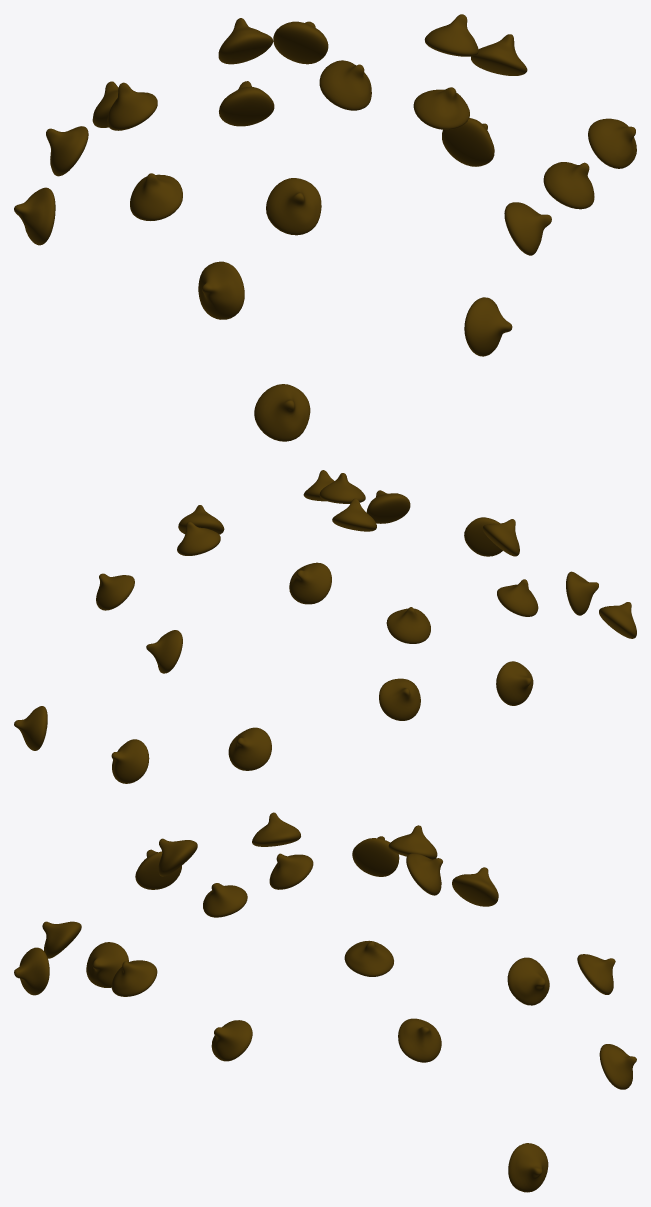
Rendered from chocolate-chips.gltf.
3 views of the same model, one above another, from view 1: azimuth 30°, elevation 25°; view 2: azimuth 150°, elevation 25°; view 3: azimuth 270°, elevation 25° (orthographic). The views are drawn at different scales.
Visible parts, largest first — view 1: Cube.006, Cube.010, Cube.011, Cube.003, Cube.017, Cube.008, Cube.018, Cube.009, Cube.004, Cube, Cube.015, Cube.019 (+8 smaller); view 2: Cube.016, Cube.001, Cube.013, Cube.019, Cube.012, Cube.002, Cube.014, Cube.007, Cube.017, Cube.004, Cube.005, Cube (+8 smaller); view 3: Cube, Cube.004, Cube.014, Cube.012, Cube.005, Cube.007, Cube.008, Cube.009, Cube.001, Cube.018, Cube.019, Cube.003 (+8 smaller).
Boxes of the visible parts, left/top/right/bottom form: Cube.006: left=266, top=178, right=321, bottom=235; Cube.010: left=254, top=384, right=310, bottom=441; Cube.011: left=198, top=261, right=244, bottom=319; Cube.003: left=319, top=60, right=371, bottom=110; Cube.017: left=130, top=173, right=182, bottom=220; Cube.008: left=588, top=118, right=636, bottom=168; Cube.018: left=464, top=297, right=512, bottom=356; Cube.009: left=543, top=162, right=594, bottom=209; Cube.004: left=273, top=21, right=328, bottom=64; Cube: left=442, top=118, right=494, bottom=166; Cube.015: left=413, top=87, right=469, bottom=129; Cube.019: left=219, top=81, right=274, bottom=126; Cube.016: left=228, top=727, right=271, bottom=770; Cube.001: left=379, top=678, right=420, bottom=720; Cube.013: left=289, top=562, right=331, bottom=604; Cube.019: left=111, top=739, right=149, bottom=783; Cube.012: left=496, top=661, right=533, bottom=705; Cube.002: left=386, top=607, right=430, bottom=643; Cube.014: left=96, top=573, right=134, bottom=610; Cube.007: left=366, top=490, right=410, bottom=523; Cube.017: left=497, top=579, right=538, bottom=616; Cube.004: left=146, top=630, right=182, bottom=673; Cube.005: left=177, top=521, right=220, bottom=555; Cube: left=14, top=706, right=47, bottom=750; Cube: left=508, top=1143, right=548, bottom=1192; Cube.004: left=507, top=957, right=549, bottom=1005; Cube.014: left=398, top=1018, right=441, bottom=1062; Cube.012: left=352, top=836, right=399, bottom=876; Cube.005: left=344, top=940, right=393, bottom=976; Cube.007: left=86, top=942, right=128, bottom=987; Cube.008: left=211, top=1020, right=252, bottom=1061; Cube.009: left=111, top=960, right=157, bottom=996; Cube.001: left=452, top=867, right=498, bottom=906; Cube.018: left=14, top=947, right=49, bottom=995; Cube.019: left=599, top=1044, right=636, bottom=1089; Cube.003: left=269, top=853, right=313, bottom=889.
Bounding box in the file's own units: 0.886 × 0.4105 × 1.01.
